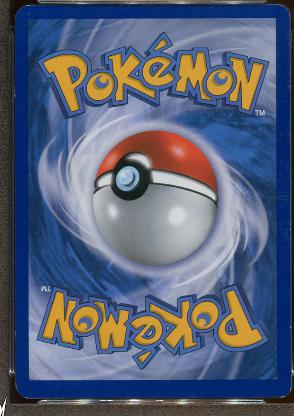Card: (10, 1, 291, 402)
Corner Wear: (14, 378, 46, 400), (265, 384, 291, 400), (20, 4, 35, 8)
Edge Wear: (286, 81, 290, 97), (13, 86, 16, 96), (288, 324, 291, 330)
Scratch: (252, 194, 288, 204)
